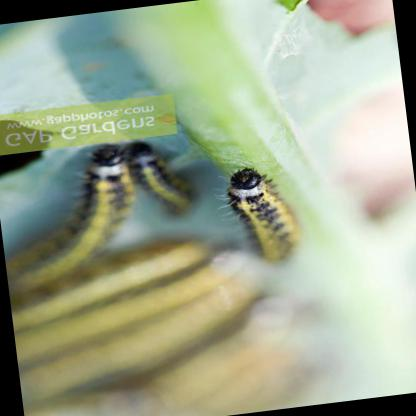pieris: (8, 141, 141, 291), (217, 169, 306, 257)
